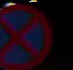No Stopping: (0, 3, 54, 69)
